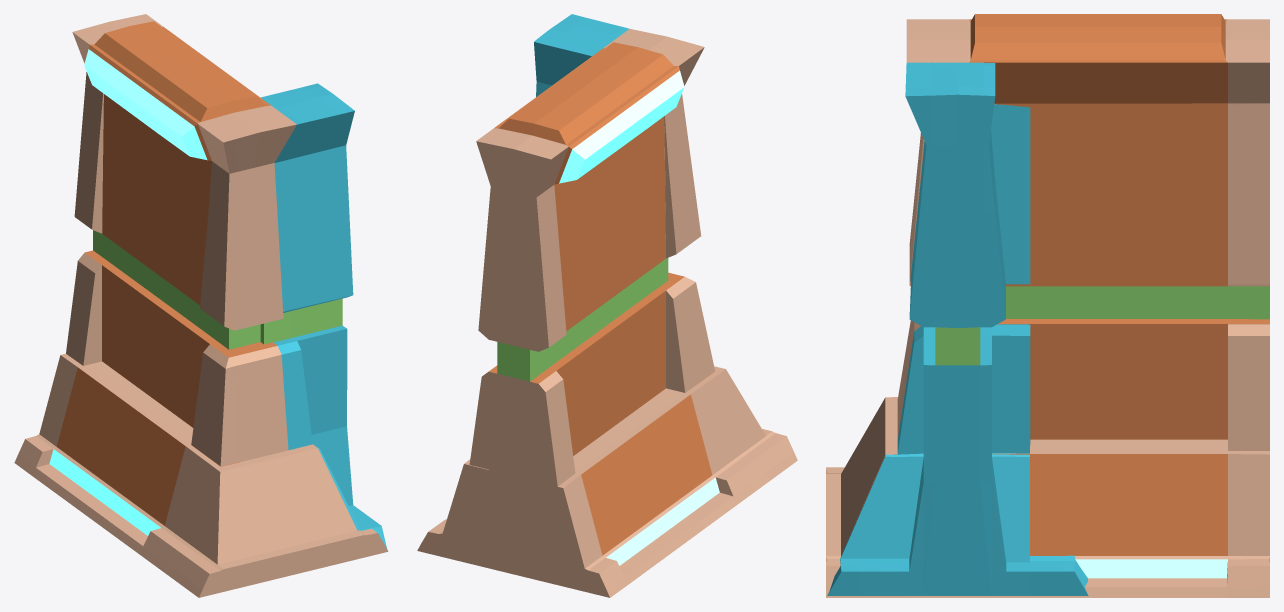
Rendered from T2_SpecialWall.fbx.
3 views of the same model, side by side, from view 1: azimuth 30°, elevation 25°; view 2: azimuth 150°, elevation 25°; view 3: azimuth 270°, elevation 25° (orthographic). The views are drawn at different scales.
Parts seen in each view (by area): view 1: T2_WalllNew, T2_WallPillarsNew, WallLightNew; view 2: T2_WalllNew, T2_WallPillarsNew, WallLightNew, T2_WallPillarsNew001; view 3: T2_WalllNew, T2_WallPillarsNew001.
Part boxes in pixels (x1,y1,x2,y2): T2_WalllNew: (14, 14, 388, 597); T2_WallPillarsNew: (66, 72, 239, 466); WallLightNew: (84, 45, 211, 160); T2_WalllNew: (417, 14, 797, 597); T2_WallPillarsNew: (536, 94, 714, 486); WallLightNew: (554, 66, 684, 184); T2_WallPillarsNew001: (469, 189, 490, 469); T2_WalllNew: (826, 14, 1269, 597); T2_WallPillarsNew001: (1228, 103, 1269, 450).
Bounding box in the file's own units: 119 × 256 × 200.
